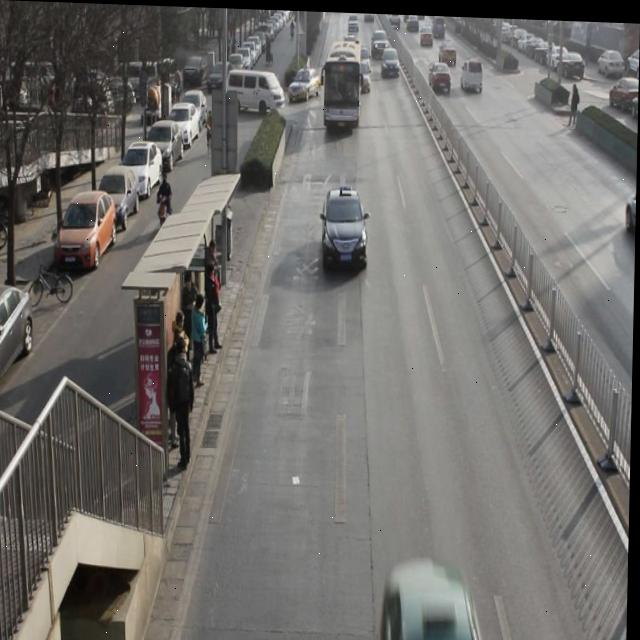car: (322, 185, 370, 268), (461, 55, 485, 95), (429, 58, 454, 93), (296, 65, 318, 100), (380, 45, 401, 80), (372, 27, 390, 57), (439, 37, 459, 62), (357, 40, 372, 72), (357, 60, 371, 93)
van: (322, 39, 359, 131)
